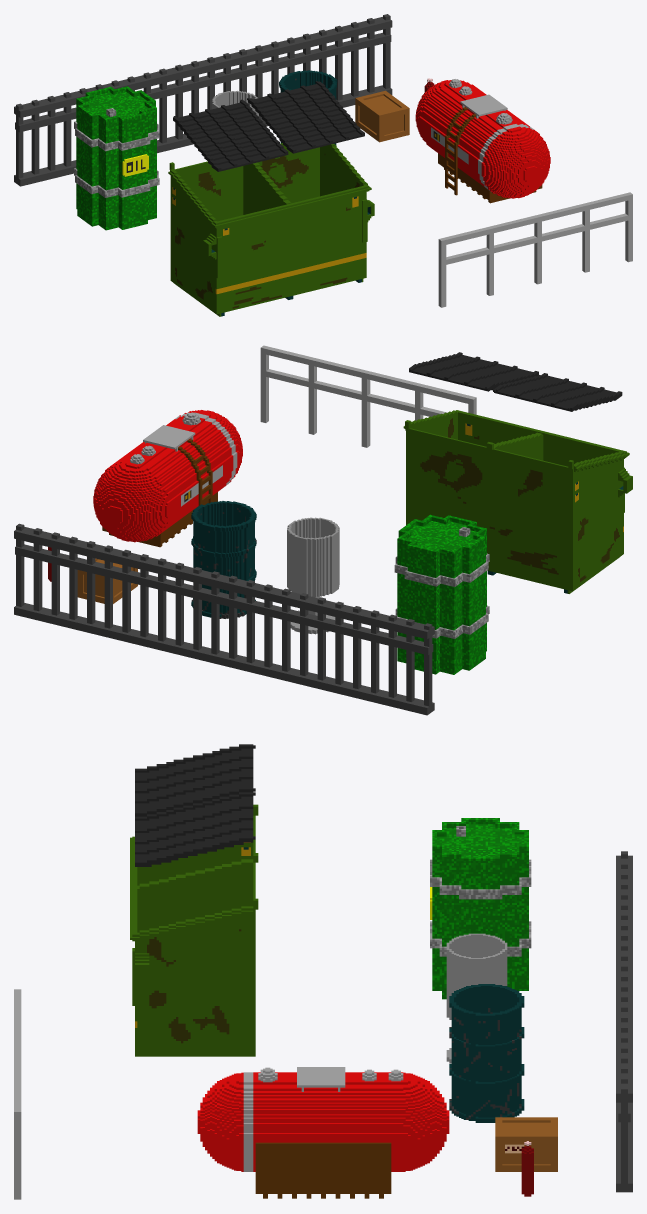
Rendered from dis malzemeler.obj.
The picture shows the model from 3 angles, top to bottom: view 1: azimuth 30°, elevation 25°; view 2: azimuth 150°, elevation 25°; view 3: azimuth 270°, elevation 25°; orthographic projection. The views are drawn at different scales.
Size of the model in its own units: 24.1 by 10 by 25.6.
Materials: 1 (1 with a texture image).
